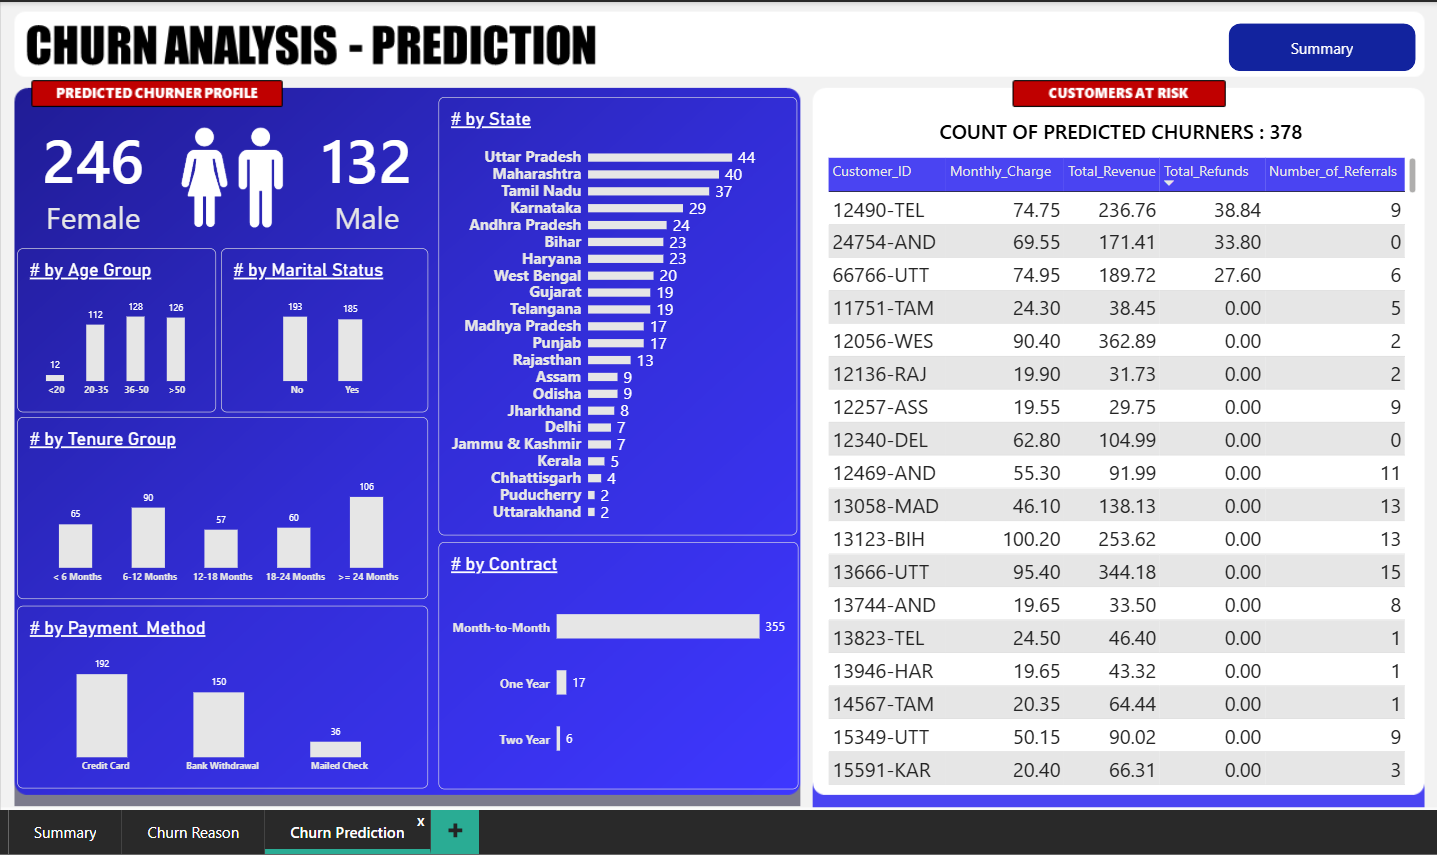

Layout of this report page (visuals, bound fields, positions):
{"tool":"powerbi","page":{"name":"Churn Prediction","canvas":[1920,1080],"ordinal":2},"visuals":[{"type":"tableEx","fields":{"Values":["Predictions.Customer_ID","Predictions.Monthly_Charge","Predictions.Total_Revenue","Predictions.Total_Refunds","Predictions.Number_of_Referrals"]},"box":[1088,193.5,817.4,870.7],"z":0},{"type":"card","fields":{"Values":["tbl_Measures.Title Predicted Churners"]},"box":[1232.5,146.7,527.5,55],"z":1000},{"type":"card","fields":{"Values":["tbl_Measures.Count Predicted Churner"]},"box":[22.1,147.1,202.9,173.1],"z":2000},{"type":"card","fields":{"Values":["tbl_Measures.Count Predicted Churner"]},"box":[394.2,147.1,189.4,173.1],"z":3000},{"type":"clusteredColumnChart","fields":{"Category":["mapping_AgeGrp.Age Group"],"Y":["CountNonNull(Predictions.Customer_ID)"]},"box":[22.1,328.8,265.4,219.2],"z":4000},{"type":"clusteredColumnChart","fields":{"Category":["Predictions.Married"],"Y":["CountNonNull(Predictions.Customer_ID)"]},"box":[294.2,328.8,276.9,219.2],"z":5000},{"type":"clusteredColumnChart","fields":{"Category":["mapping_TenureGrp.Tenure Group"],"Y":["CountNonNull(Predictions.Customer_ID)"]},"box":[22.1,554.8,549,243.3],"z":6000},{"type":"clusteredColumnChart","fields":{"Category":["Predictions.Payment_Method"],"Y":["CountNonNull(Predictions.Customer_ID)"]},"box":[22.1,806.7,549,244.2],"z":7000},{"type":"clusteredBarChart","fields":{"Category":["Predictions.Contract"],"Y":["CountNonNull(Predictions.Customer_ID)"]},"box":[583.7,720.7,480.4,330.4],"z":8000},{"type":"clusteredBarChart","fields":{"Category":["Predictions.State"],"Y":["CountNonNull(Predictions.Customer_ID)"]},"box":[583.7,126.1,479.3,585.9],"z":9000},{"type":"image","box":[224.5,147.2,169.2,173.1],"z":10000},{"type":"shape","box":[1639.8,28.6,250,64.3],"z":10001}]}

Visuals, with their boxes on the page's 1920x1080 design canvas (x1, y1, x2, y2). These are canvas units, not pixel positions in the 1437x855 screenshot, which may show the page scaled, cropped or inside an application window:
tableEx - Predictions.Customer_ID x Predictions.Monthly_Charge: detection(1088, 194, 1905, 1064)
card - tbl_Measures.Title Predicted Churners: detection(1232, 147, 1760, 202)
card - tbl_Measures.Count Predicted Churner: detection(22, 147, 225, 320)
card - tbl_Measures.Count Predicted Churner: detection(394, 147, 584, 320)
clusteredColumnChart - mapping_AgeGrp.Age Group x CountNonNull(Predictions.Customer_ID): detection(22, 329, 288, 548)
clusteredColumnChart - Predictions.Married x CountNonNull(Predictions.Customer_ID): detection(294, 329, 571, 548)
clusteredColumnChart - mapping_TenureGrp.Tenure Group x CountNonNull(Predictions.Customer_ID): detection(22, 555, 571, 798)
clusteredColumnChart - Predictions.Payment_Method x CountNonNull(Predictions.Customer_ID): detection(22, 807, 571, 1051)
clusteredBarChart - Predictions.Contract x CountNonNull(Predictions.Customer_ID): detection(584, 721, 1064, 1051)
clusteredBarChart - Predictions.State x CountNonNull(Predictions.Customer_ID): detection(584, 126, 1063, 712)
image: detection(224, 147, 394, 320)
shape: detection(1640, 29, 1890, 93)
